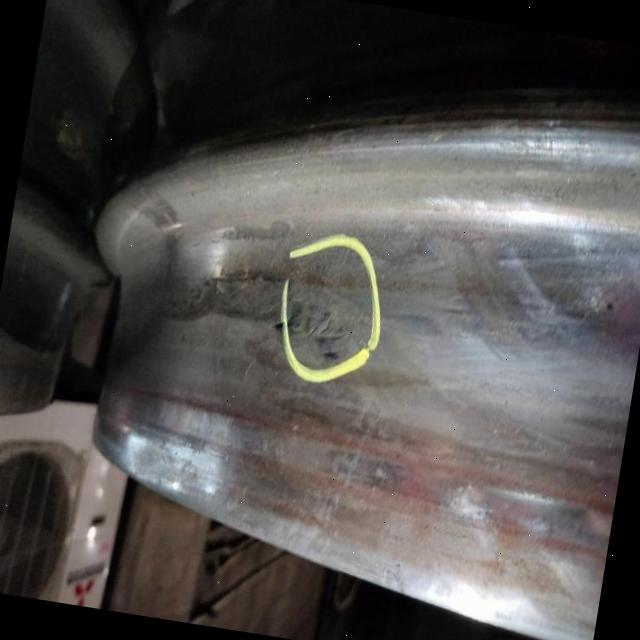Rollerpile: (283, 281, 360, 365)
